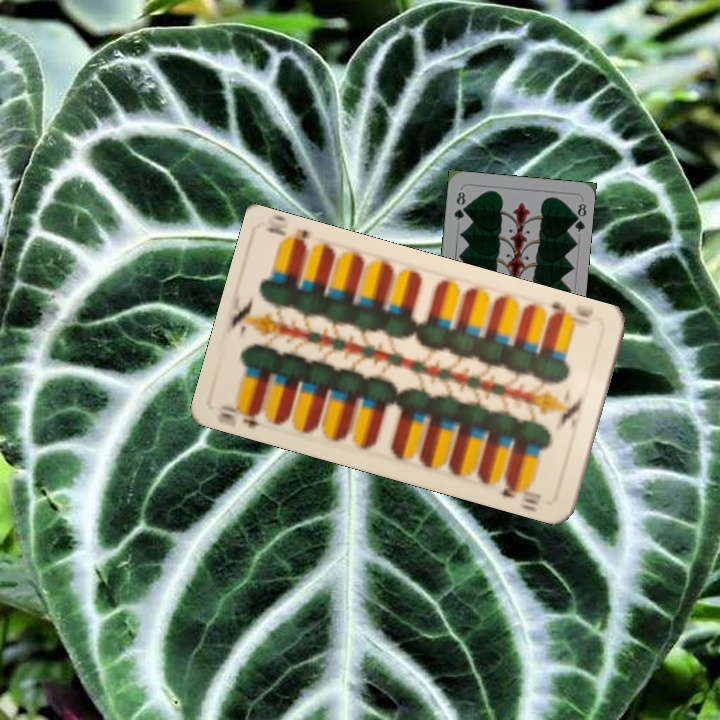E10: (213, 401, 264, 431), (544, 297, 596, 325)
G8: (450, 186, 468, 223)
